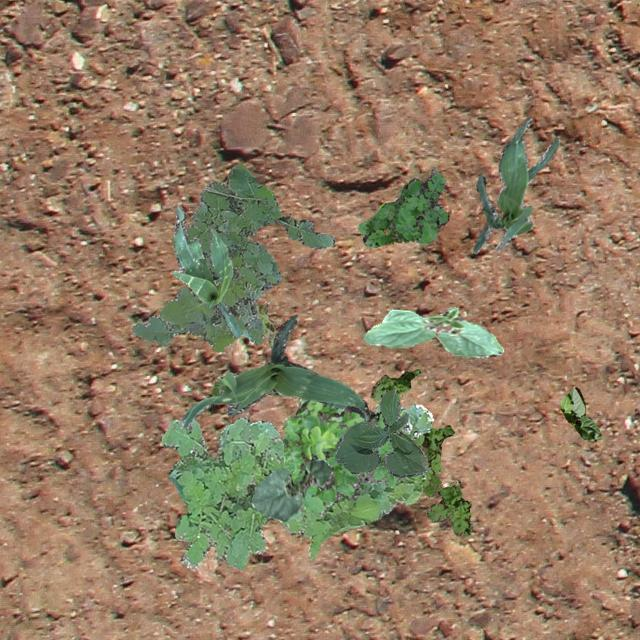crop: (180, 314, 368, 426), (472, 115, 558, 252), (170, 206, 240, 336), (334, 388, 426, 476), (362, 306, 502, 358), (250, 458, 334, 520), (560, 386, 600, 439)
weed: (160, 402, 432, 568), (130, 164, 334, 350), (370, 368, 470, 536), (282, 398, 394, 512), (357, 167, 448, 247), (252, 302, 276, 344)
